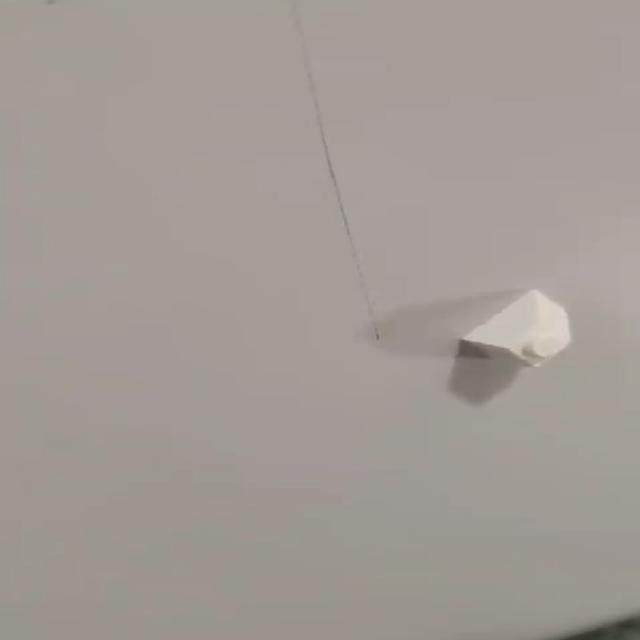P1x2x1: (466, 291, 574, 367)
